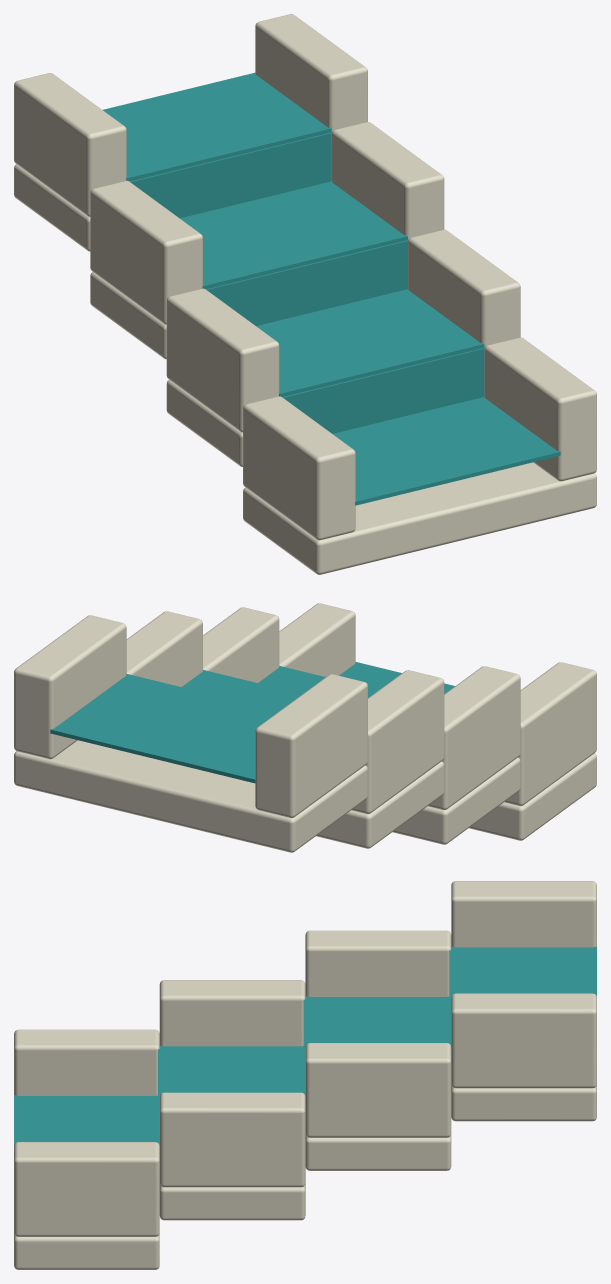
The model's file is water-clock-garden-and-hydraulic-puzzles-stepped-casca-42a310b9__31956.glb.
The picture shows the model from 3 angles, top to bottom: view 1: azimuth 30°, elevation 25°; view 2: azimuth 150°, elevation 25°; view 3: azimuth 270°, elevation 25°; orthographic projection. The views are drawn at different scales.
Visible parts, largest first — view 1: stepped-cascade-trough; view 2: stepped-cascade-trough; view 3: stepped-cascade-trough.
Boxes of the visible parts, bbox=[...] form: stepped-cascade-trough: bbox=[14, 14, 596, 574]; stepped-cascade-trough: bbox=[14, 603, 596, 852]; stepped-cascade-trough: bbox=[14, 881, 596, 1269].
Bounding box in the file's own units: 0.8499 × 0.7899 × 1.6.
